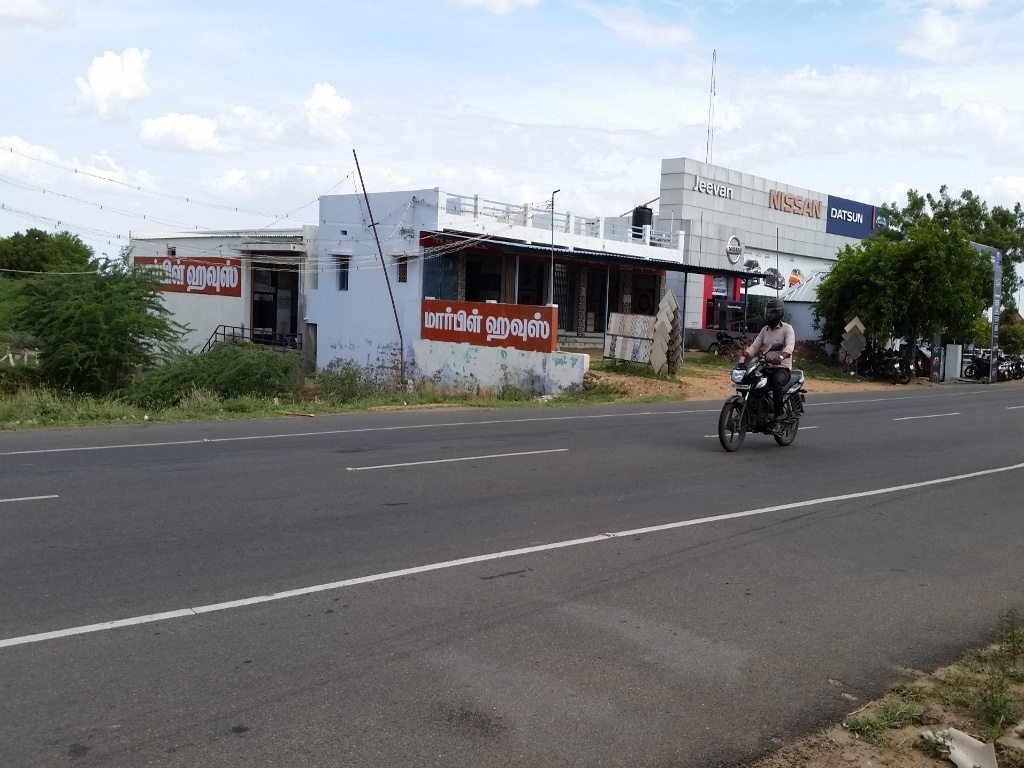biker: (677, 270, 851, 463)
helmet: (760, 293, 796, 337)
